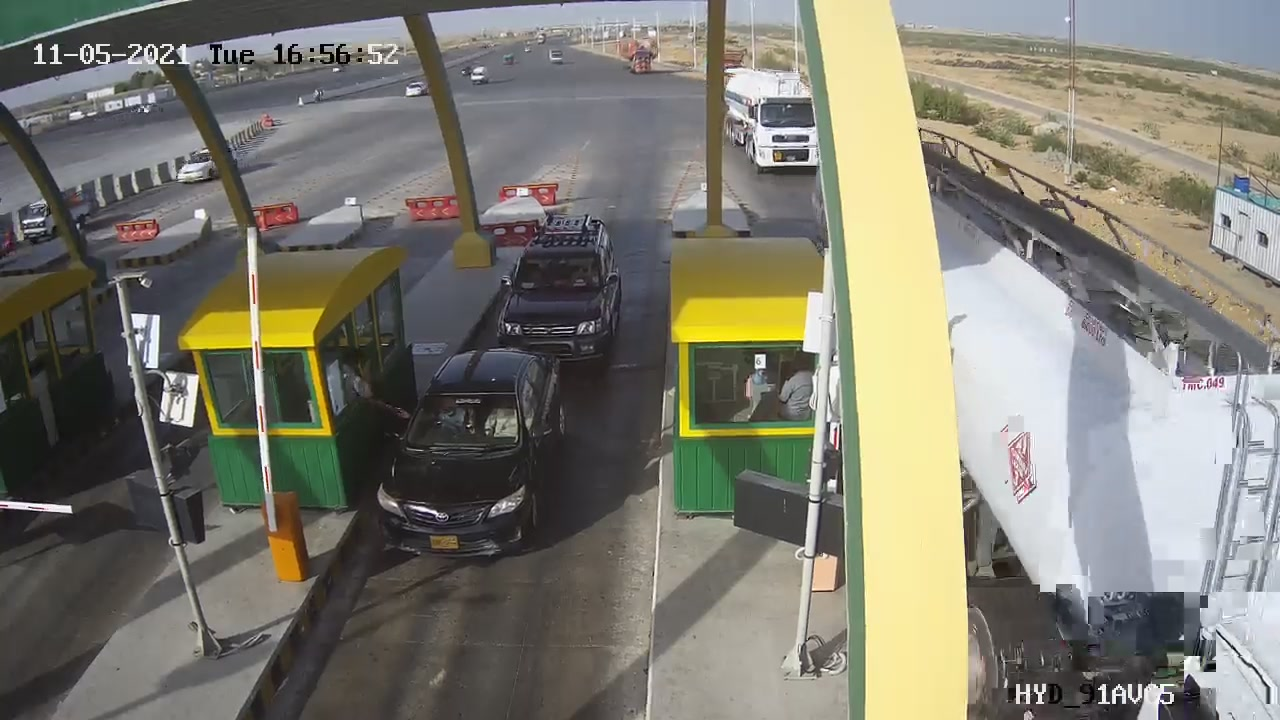F1: (353, 331, 594, 579), (467, 201, 645, 395)
